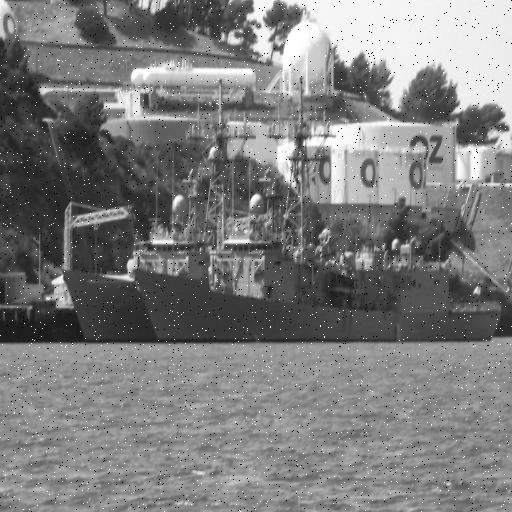Fragata: (135, 168, 507, 346)
